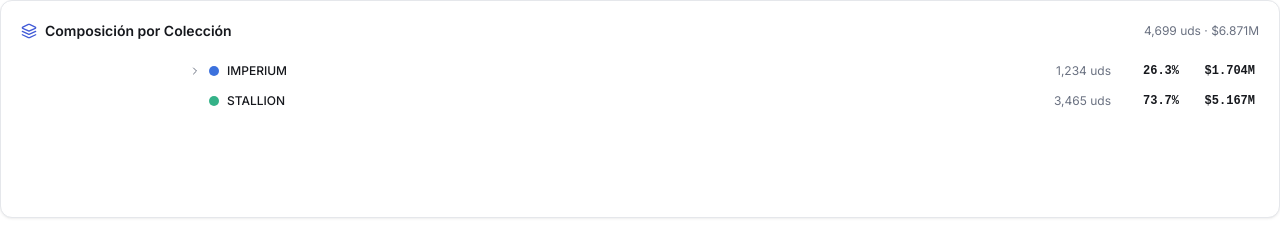
Test case: Collection composition sold value › shows whole millions with a thousands separator and never MM
What coordinates should you click on to do the following:
click the button "IMPERIUM 1,234 uds 26.3% $1.704M"
I would click on:
 (257, 70)
Its box is [185,57,1259,85].
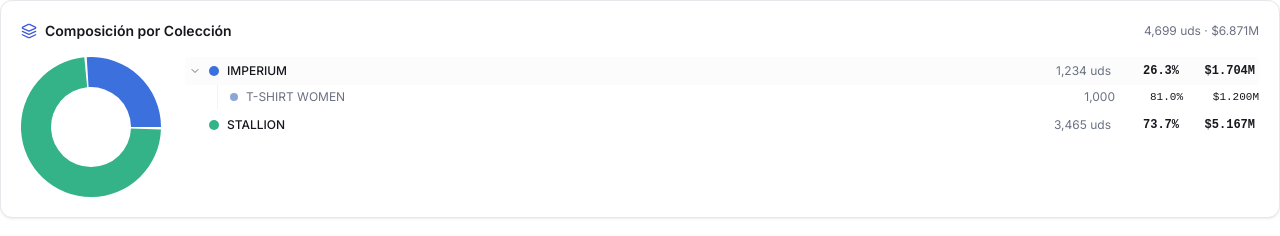
expect the text "$1.200M" is shown: met, box [1213,91,1259,103]
